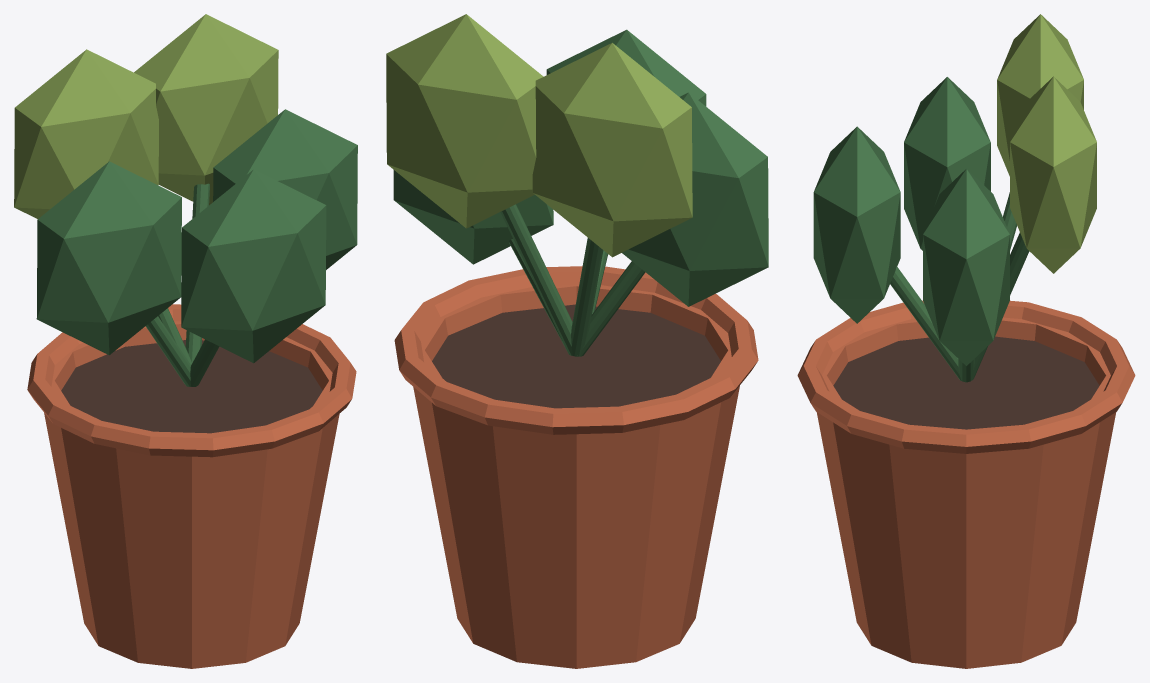
File: market_08_Herb_Pot.glb
3 views of the same model, side by side, from view 1: azimuth 30°, elevation 25°; view 2: azimuth 150°, elevation 25°; view 3: azimuth 270°, elevation 25° (orthographic). The views are drawn at different scales.
Visible parts, largest first — view 1: 08_Herb_Pot; view 2: 08_Herb_Pot; view 3: 08_Herb_Pot.
Part boxes in pixels (box(x1,y1,x2,y2)): 08_Herb_Pot: box(14, 14, 357, 668); 08_Herb_Pot: box(386, 14, 768, 668); 08_Herb_Pot: box(797, 14, 1135, 668).
Size of the model in its own units: 0.57 by 0.93 by 0.496.
